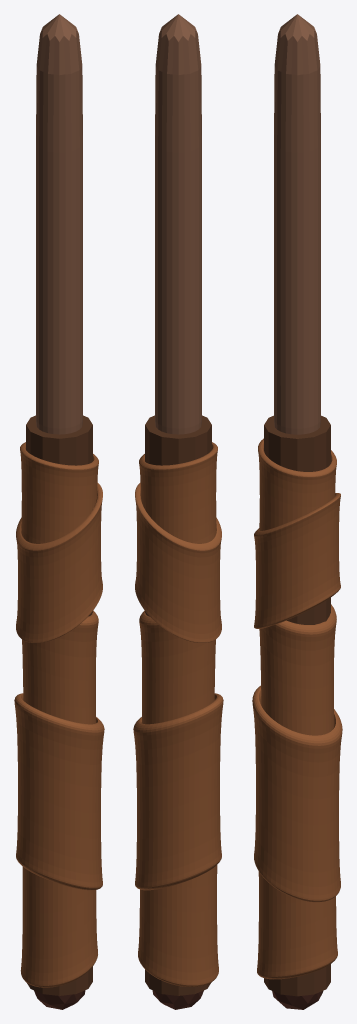
Rendered from Wand 310.glb.
3 renders of one model, left to right at view 1: azimuth 30°, elevation 25°; view 2: azimuth 150°, elevation 25°; view 3: azimuth 330°, elevation 25°, orthographic.
Parts seen in each view (by area): view 1: GeneratedWand; view 2: GeneratedWand; view 3: GeneratedWand.
Boxes of the visible parts, left/top/right/bottom form: GeneratedWand: left=14, top=14, right=104, bottom=1009; GeneratedWand: left=133, top=14, right=223, bottom=1009; GeneratedWand: left=252, top=14, right=342, bottom=1009.
Size of the model in its own units: 0.0408 by 0.4966 by 0.0408.
